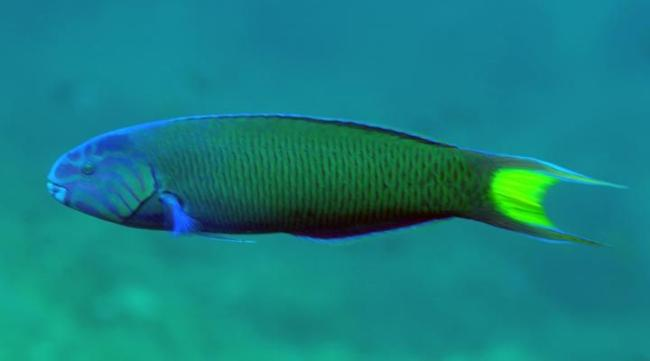fish: (46, 113, 631, 249)
